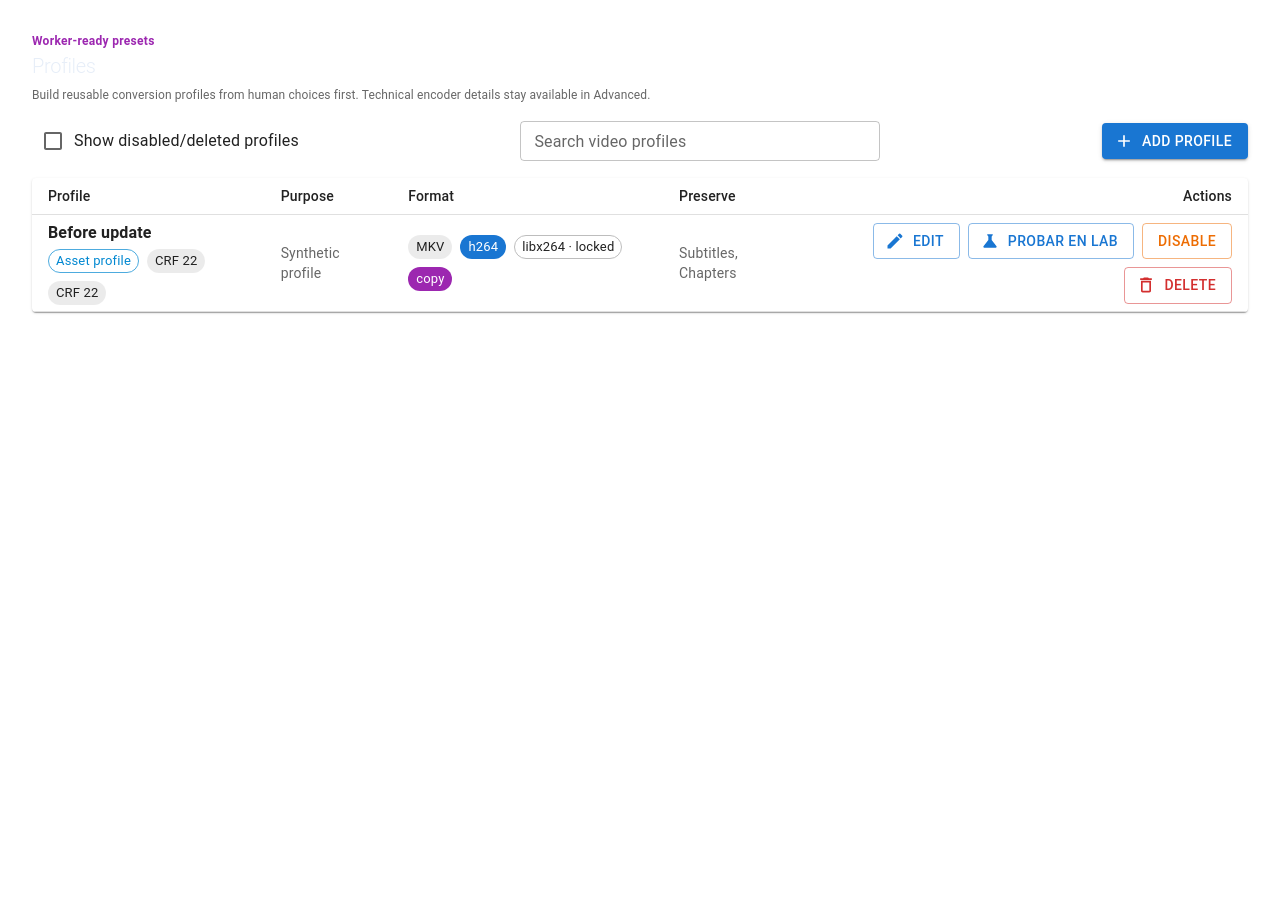
Test: Profiles mutation feedback timing › records update feedback from the server response while refetch reconciles in the background
Click the button "Edit" at (916, 241), box [873,222,960,259]
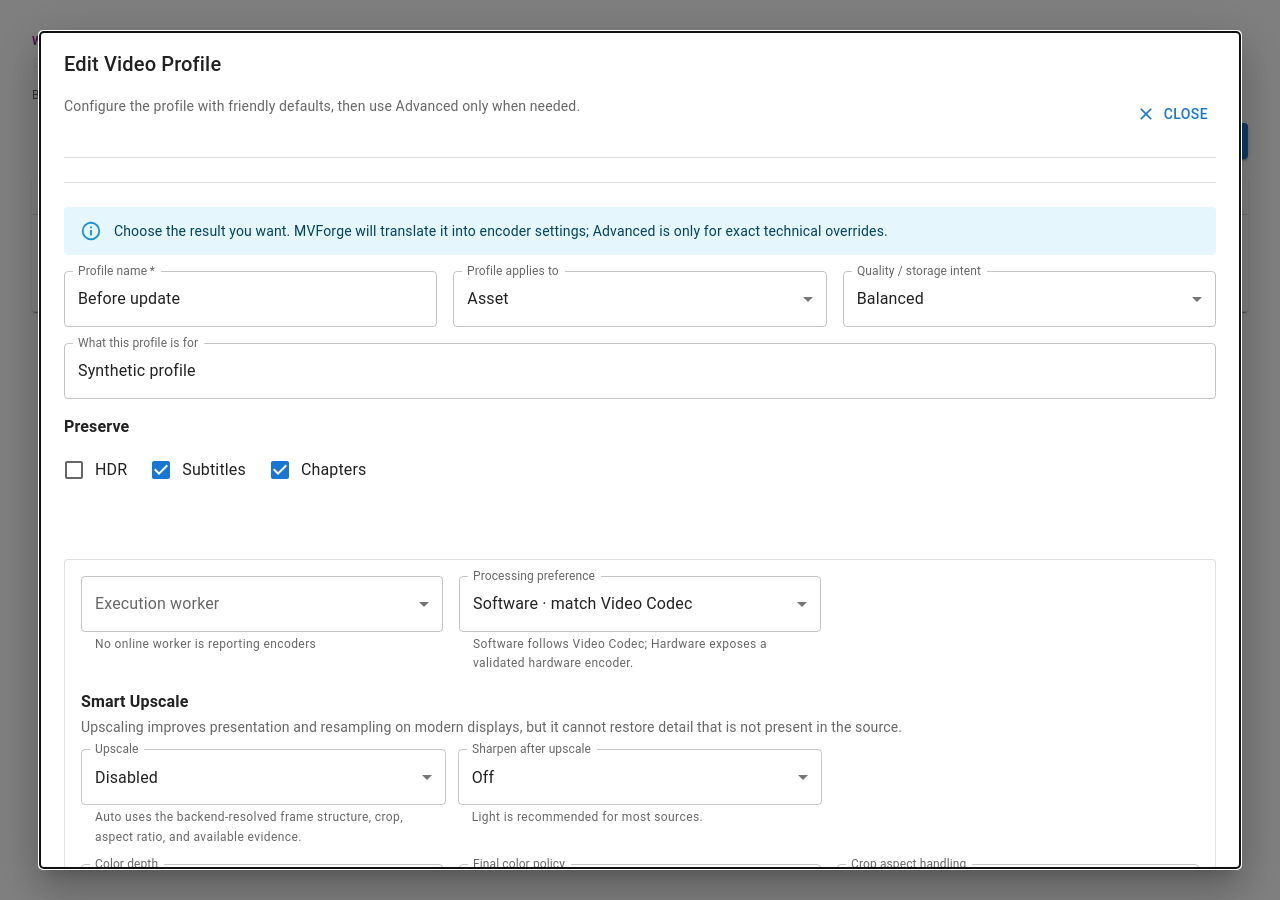
Replace the text in the field labelled "Profile name" with "After update" at (251, 298), box [64,270,437,326]
(page scrolled)
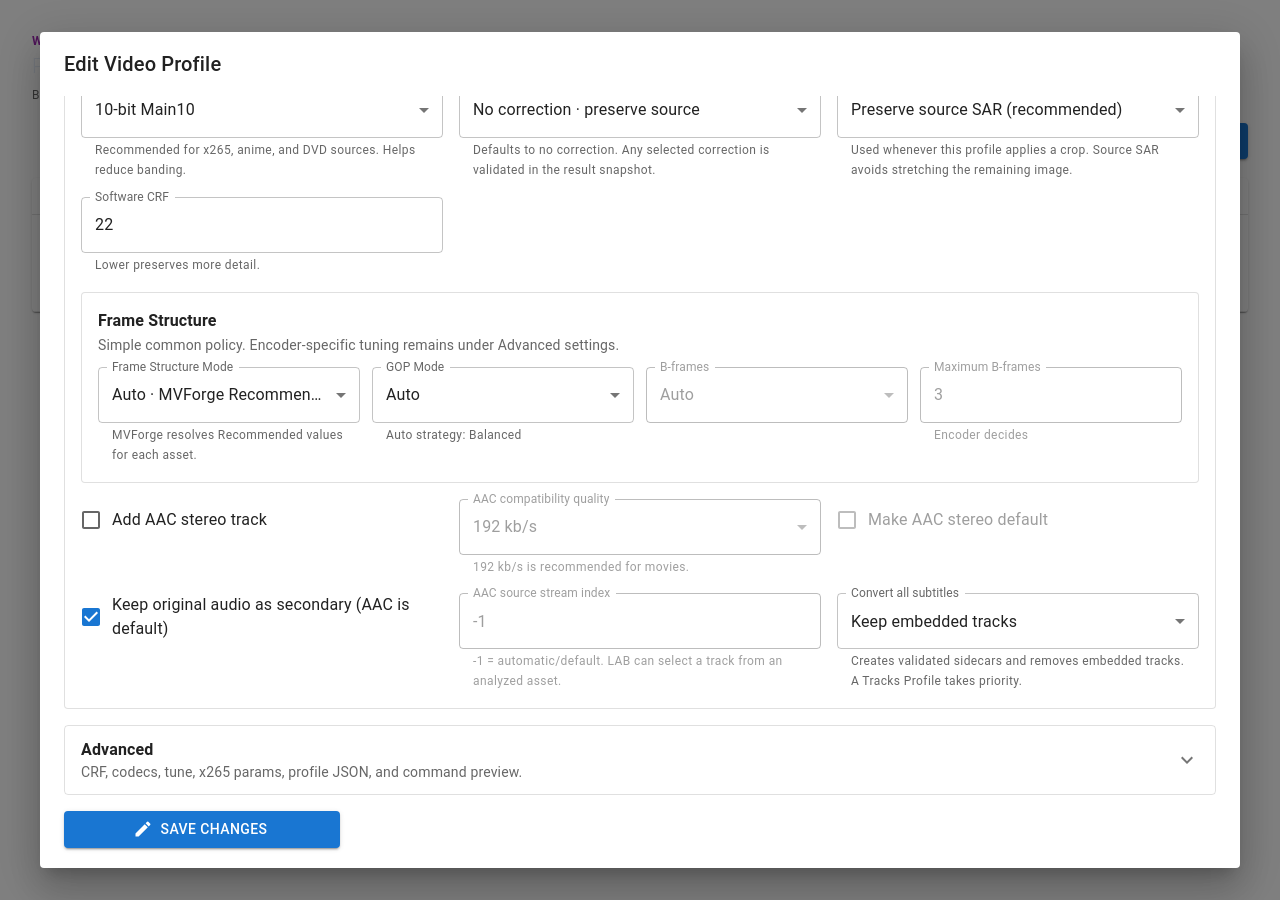
Click the button "Save Changes" at (202, 829), box [64,811,340,848]
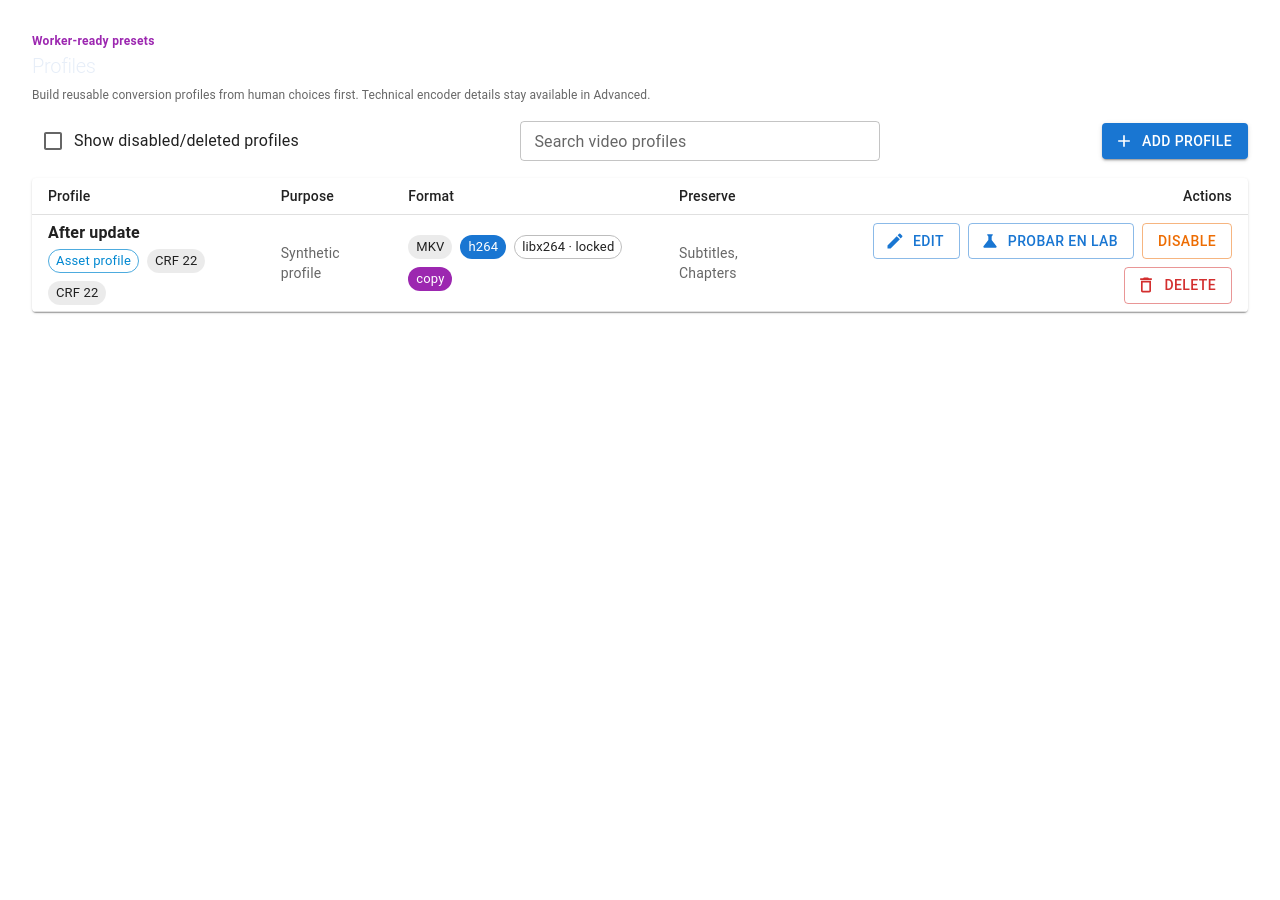
Result: the dialog is gone
